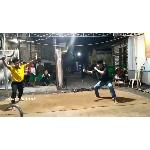Celurit: (0, 47, 20, 63)
